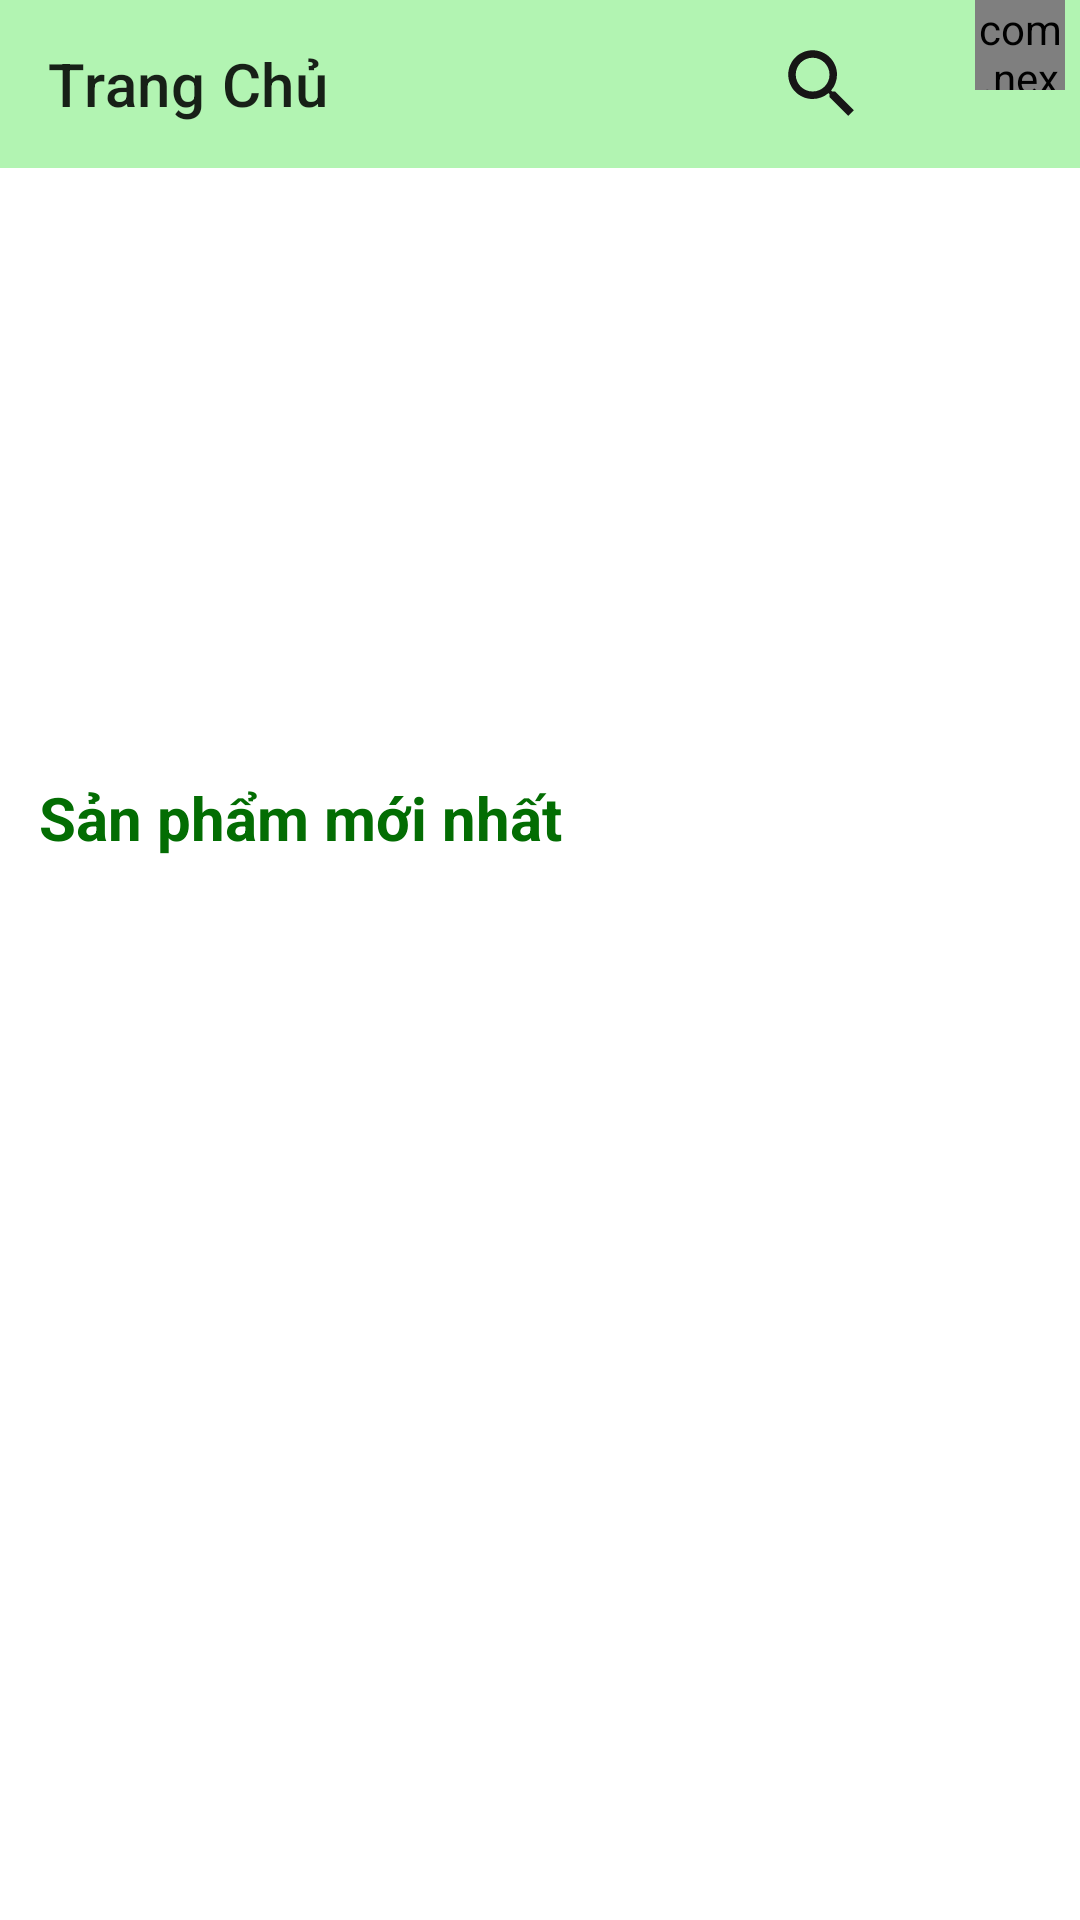

Where to tap for icons on this 1080px x 1920px app screen, as (x=x, y=y):
search: (x=821, y=83)
